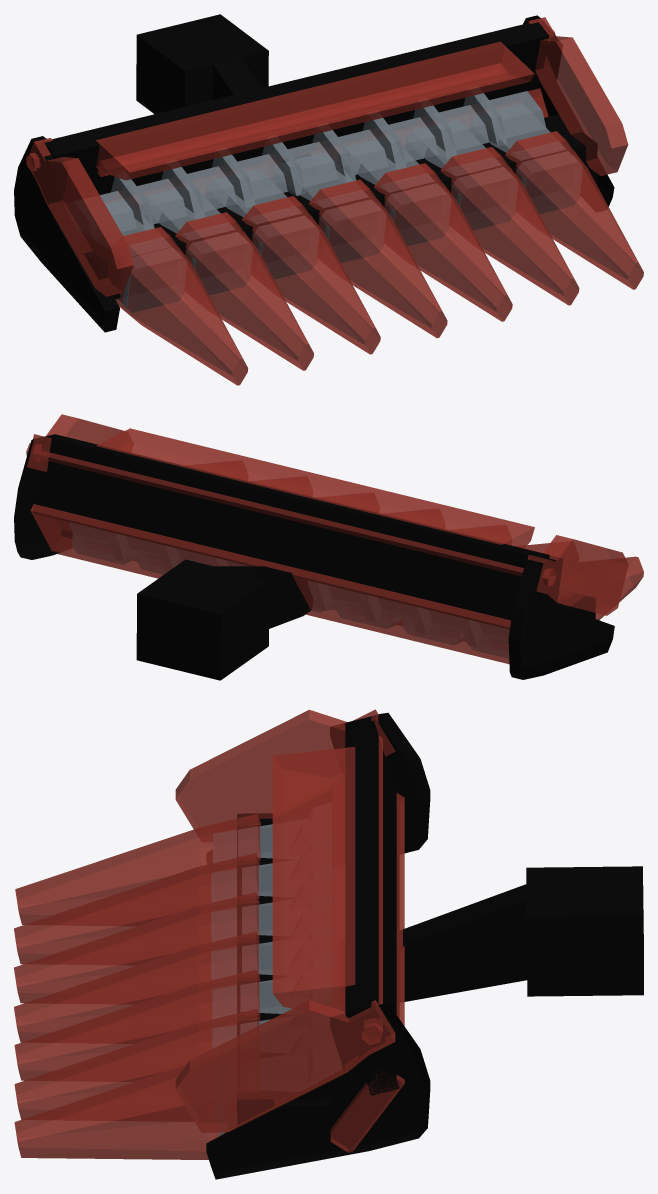
File: combineSpikey.fbx
The picture shows the model from 3 angles, top to bottom: view 1: azimuth 30°, elevation 25°; view 2: azimuth 150°, elevation 25°; view 3: azimuth 270°, elevation 25°; orthographic projection. The views are drawn at different scales.
Visible parts, largest first — view 1: spikey, roller; view 2: spikey, roller; view 3: spikey.
Boxes of the visible parts, bbox=[...] form: spikey: bbox=[14, 14, 643, 385]; roller: bbox=[100, 91, 545, 227]; spikey: bbox=[14, 414, 643, 680]; roller: bbox=[69, 522, 509, 647]; spikey: bbox=[14, 709, 643, 1179].
Bounding box in the file's own units: 507 × 141 × 441.
